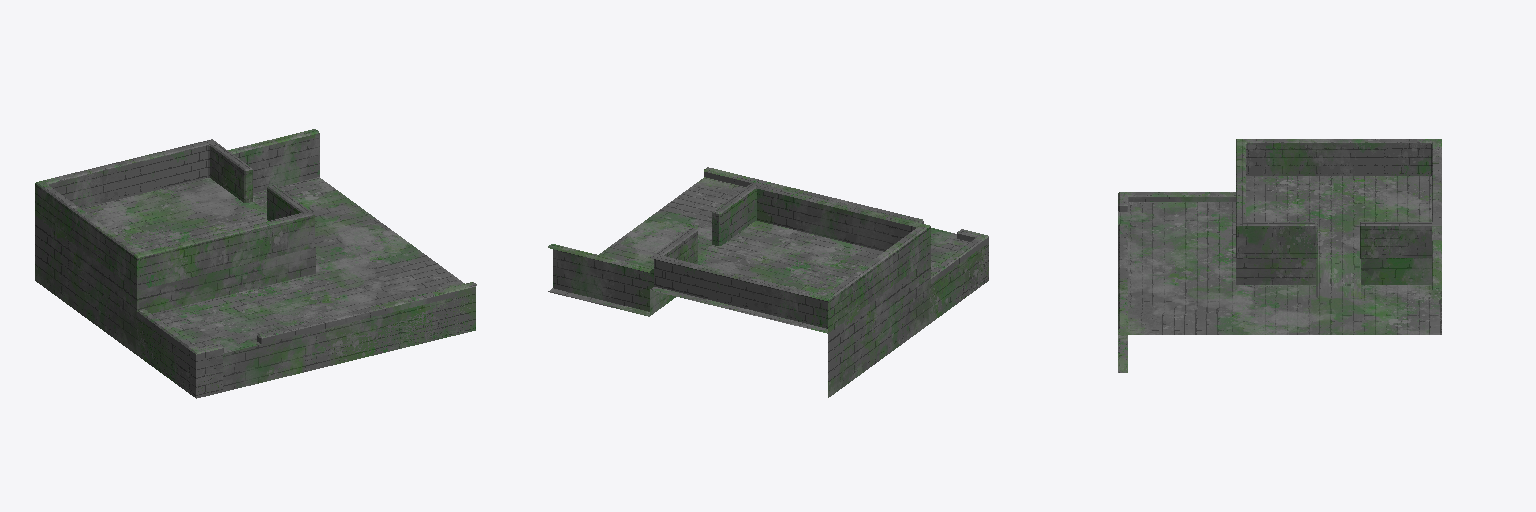
3 views of the same model, side by side, from view 1: azimuth 30°, elevation 25°; view 2: azimuth 150°, elevation 25°; view 3: azimuth 270°, elevation 25° (orthographic).
Visible parts, largest first — view 1: Cube.054, Cube.055, Cube.058, Cube.056, Cube.057; view 2: Cube.054, Cube.055, Cube.057, Cube.058, Cube.056; view 3: Cube.054, Cube.055, Cube.058, Cube.056.
Part boxes in pixels (x1,y1,x2,y2): Cube.054: (35, 177, 475, 397); Cube.055: (35, 139, 314, 290); Cube.058: (257, 282, 476, 373); Cube.056: (137, 309, 223, 398); Cube.057: (228, 129, 319, 192); Cube.054: (548, 177, 988, 397); Cube.055: (650, 182, 930, 333); Cube.057: (548, 244, 653, 311); Cube.058: (704, 167, 923, 223); Cube.056: (931, 229, 988, 298); Cube.054: (1118, 176, 1441, 334); Cube.055: (1236, 139, 1441, 257); Cube.058: (1118, 224, 1127, 372); Cube.056: (1118, 192, 1235, 211).
Size of the model in its own units: 99.4 by 33.28 by 99.
Materials: 3 (2 with a texture image).